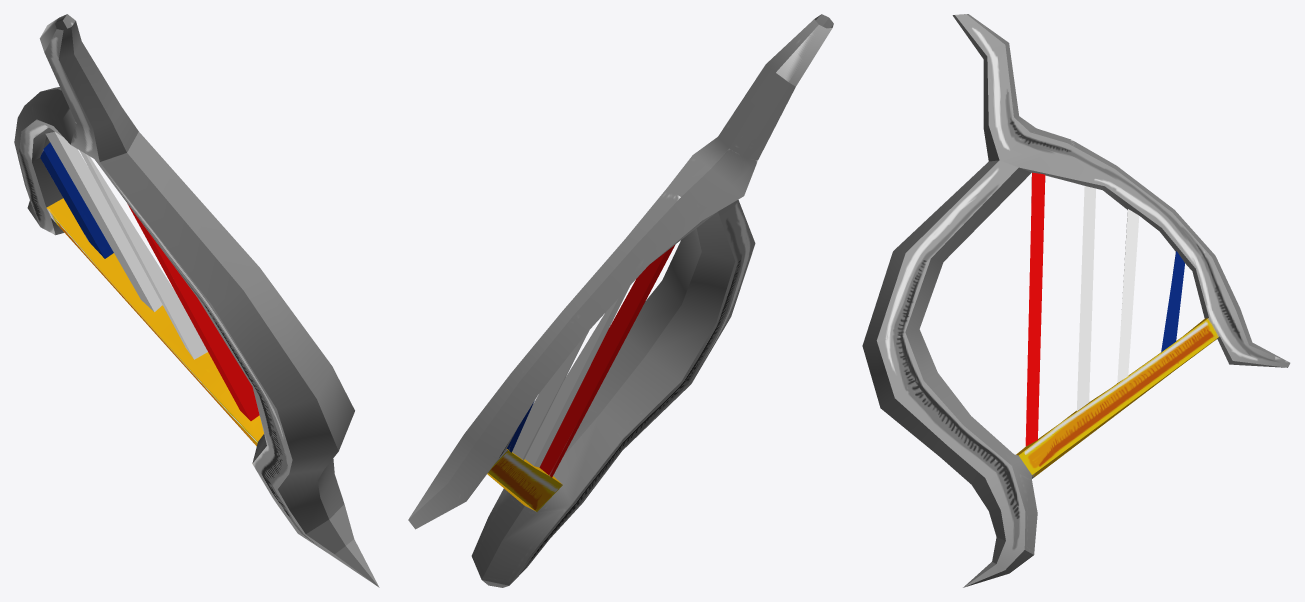
The model's file is Arpa1_000003.obj.
The picture shows the model from 3 angles, left to right: view 1: azimuth 30°, elevation 25°; view 2: azimuth 150°, elevation 25°; view 3: azimuth 270°, elevation 25°; orthographic projection. The views are drawn at different scales.
Visible parts, largest first — view 1: a1_pCube7.001; view 2: a1_pCube7.001; view 3: a1_pCube7.001.
Boxes of the visible parts, x1,y1,x2,y2 form: a1_pCube7.001: [14, 14, 379, 587]; a1_pCube7.001: [408, 14, 833, 587]; a1_pCube7.001: [862, 14, 1290, 587].
Size of the model in its own units: 4.8 by 9.12 by 7.6.
